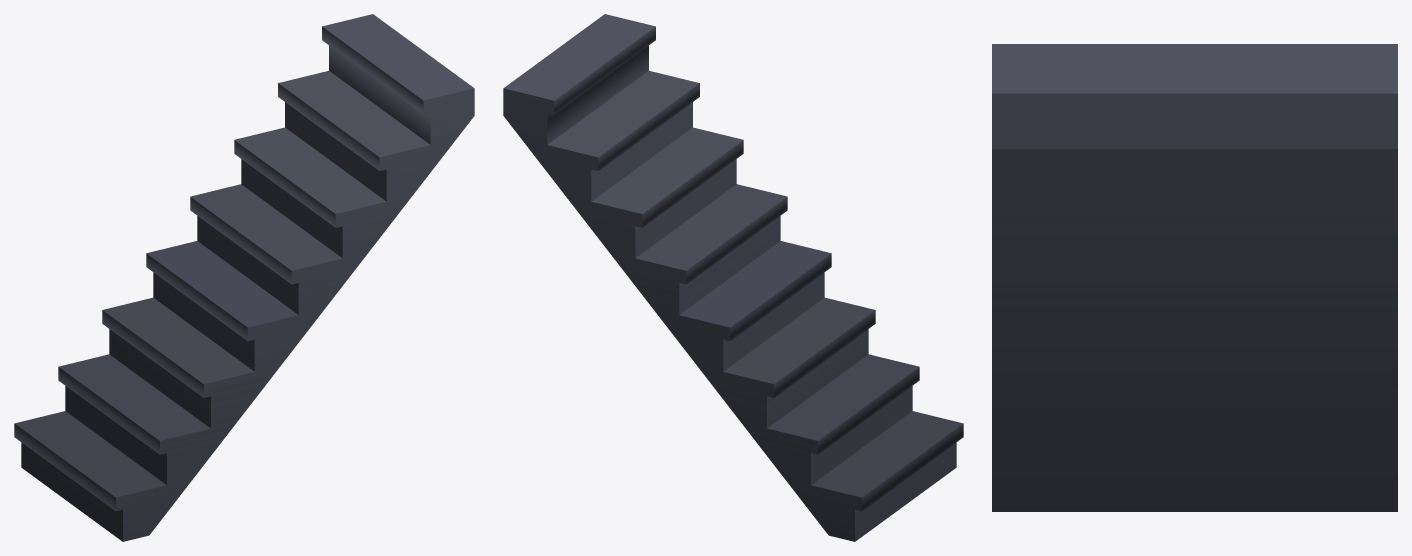
The model's file is stairs-stone.glb.
3 renders of one model, left to right at view 1: azimuth 30°, elevation 25°; view 2: azimuth 150°, elevation 25°; view 3: azimuth 270°, elevation 25°, orthographic. The views are drawn at different scales.
Parts seen in each view (by area): view 1: stairs-stone; view 2: stairs-stone; view 3: stairs-stone.
Part boxes in pixels (<box>): stairs-stone: <box>14,14,474,541</box>; stairs-stone: <box>503,14,963,541</box>; stairs-stone: <box>992,44,1397,511</box>.
Size of the model in its own units: 1.02 by 1 by 0.5.
Materials: 1 (1 with a texture image).
